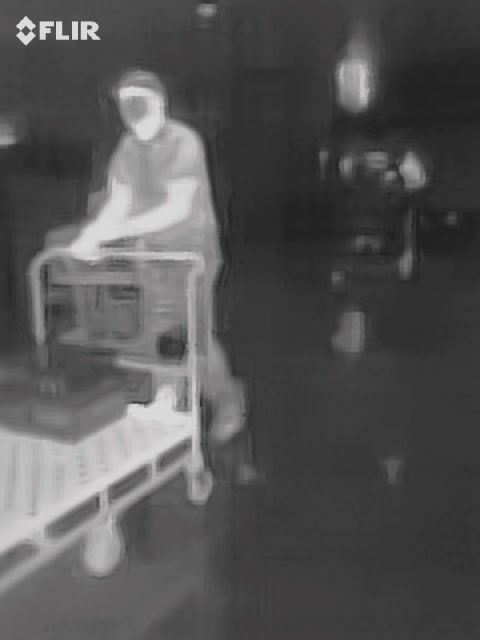head: (118, 69, 167, 132)
